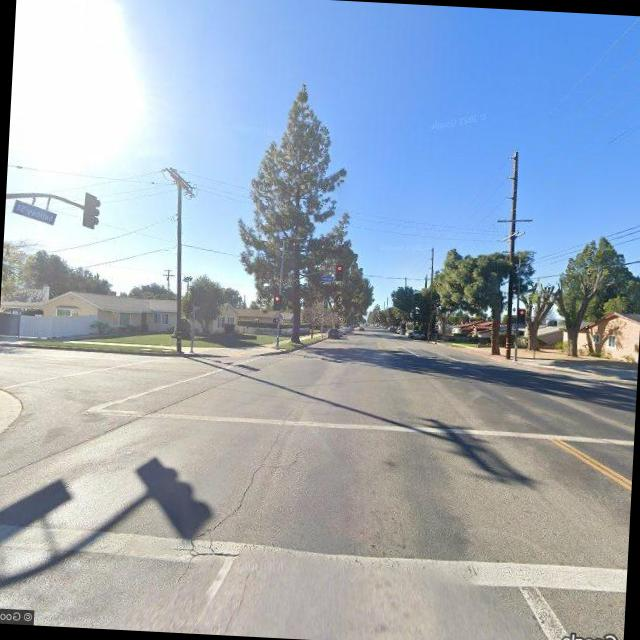crack: (198, 402, 296, 564)
